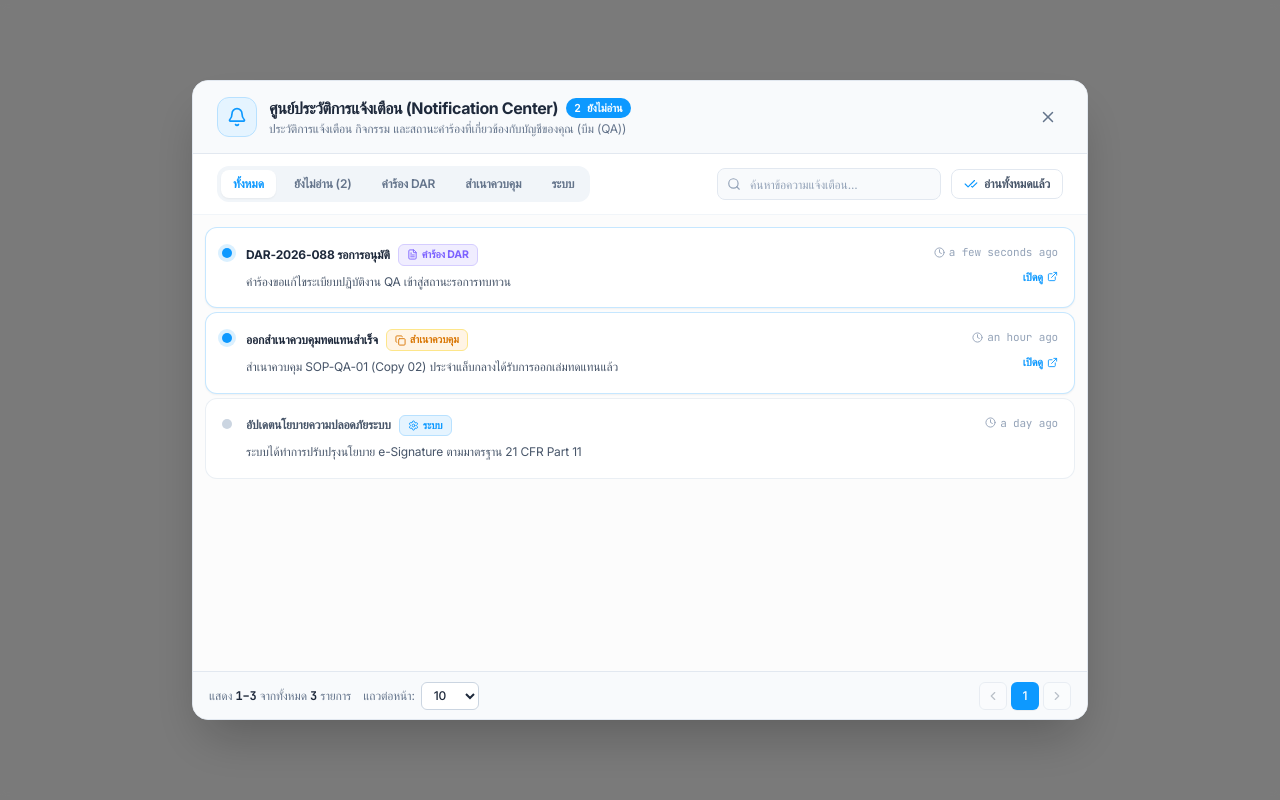
Test: Enterprise Notification Architecture & Lifecycle Management Tests › 2. Category tabs filter notifications accurately
The width and height of the screenshot is (1280, 800).
Expected: the text "DAR-2026-088 รอการอนุมัติ" is shown, [246,247,390,263]
Expected: the text "ออกสำเนาควบคุมทดแทนสำเร็จ" is shown, [246,332,378,348]
Filter by UNREAD
Click the button "ยังไม่อ่าน (2)".
click(323, 184)  # box [282,170,364,198]
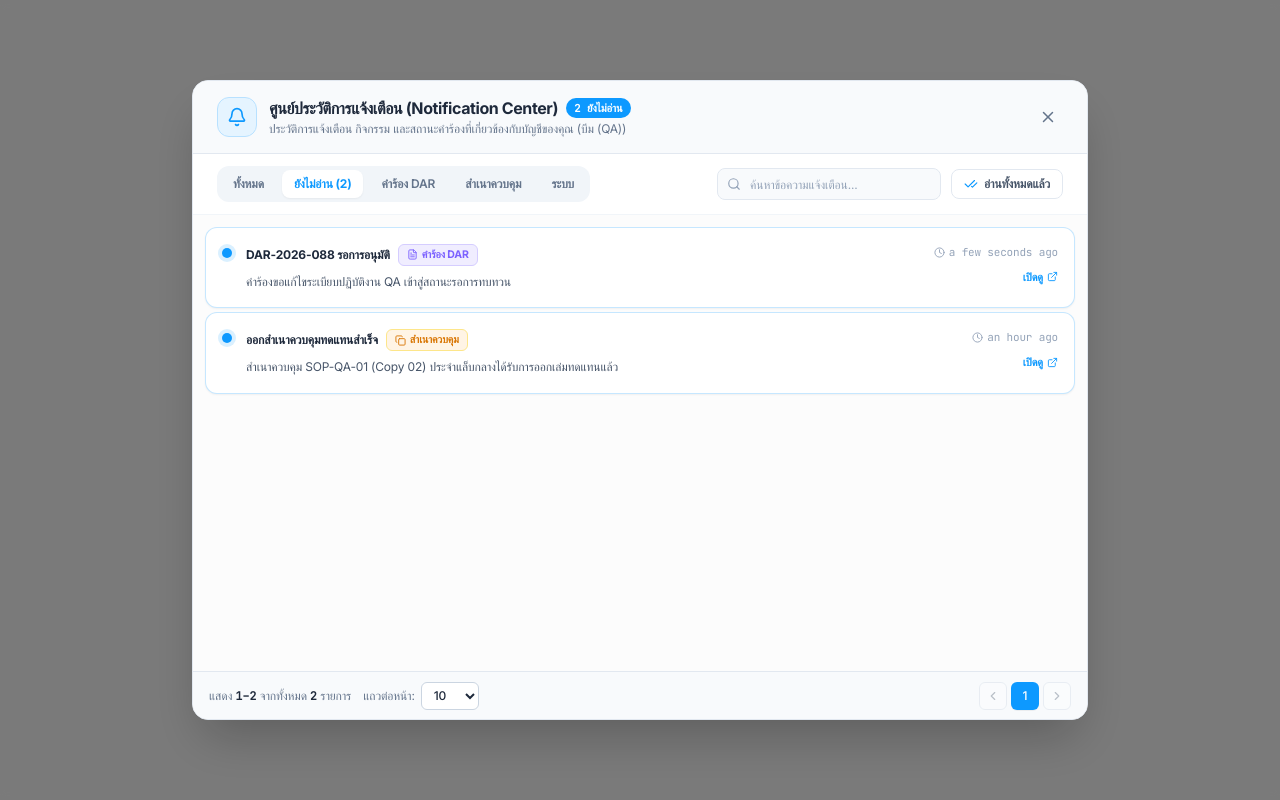
Expected: the text "DAR-2026-088 รอการอนุมัติ" is shown, [246,247,390,263]
Expected: the text "อัปเดตนโยบายความปลอดภัยระบบ" is gone
Filter by DAR
Click the button "คำร้อง DAR".
click(408, 184)  # box [370,170,447,198]
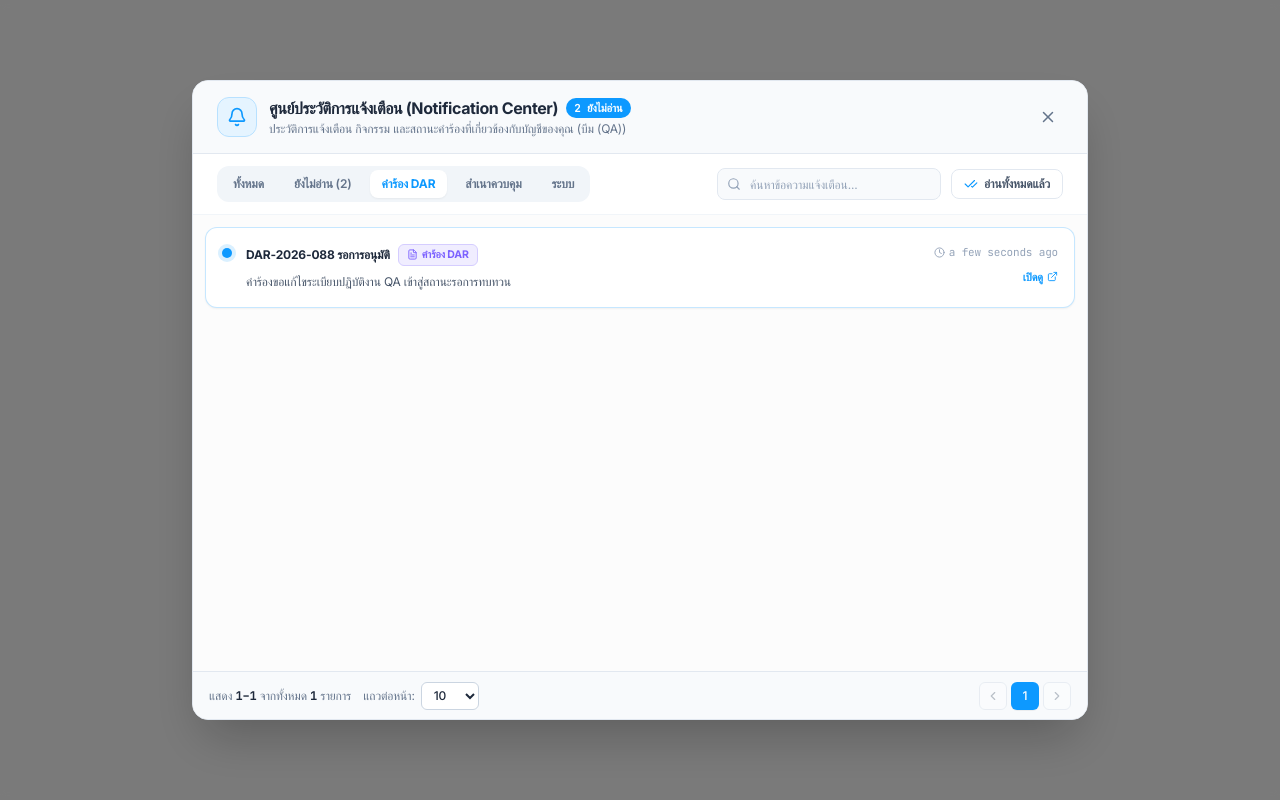
Expected: the text "DAR-2026-088 รอการอนุมัติ" is shown, [246,247,390,263]
Expected: the text "ออกสำเนาควบคุมทดแทนสำเร็จ" is gone
Filter by CONTROLLED_COPY
Click the button "สำเนาควบคุม".
click(493, 184)  # box [453,170,533,198]
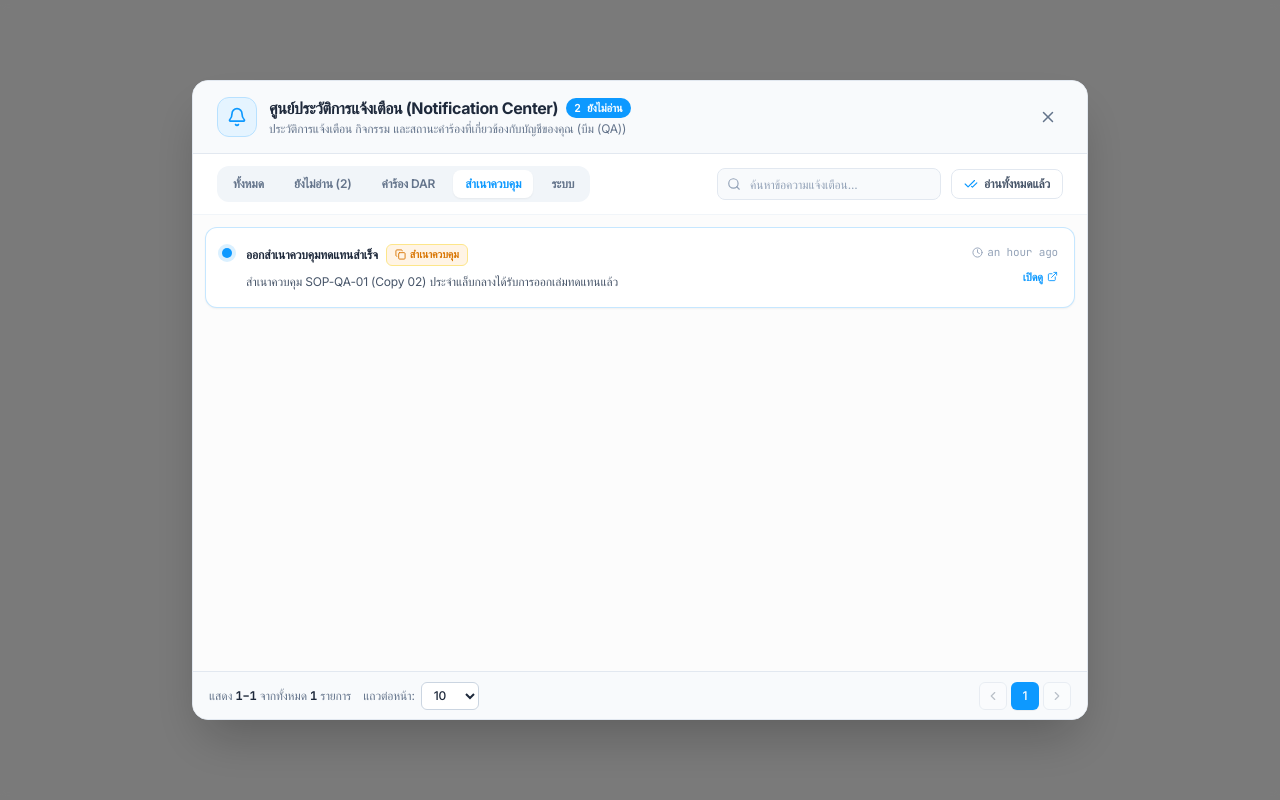
Expected: the text "ออกสำเนาควบคุมทดแทนสำเร็จ" is shown, [246,247,378,263]
Expected: the text "DAR-2026-088 รอการอนุมัติ" is gone
